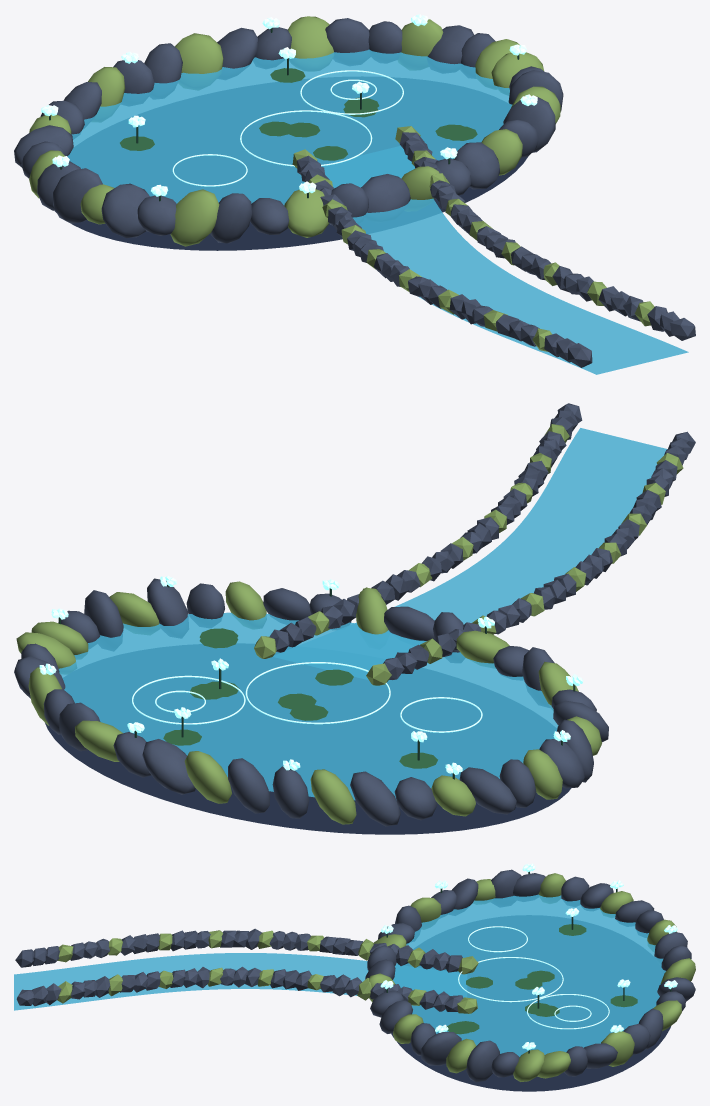
The model's file is enchanted-pond.glb.
The picture shows the model from 3 angles, top to bottom: view 1: azimuth 30°, elevation 25°; view 2: azimuth 150°, elevation 25°; view 3: azimuth 270°, elevation 25°; orthographic projection. The views are drawn at different scales.
Visible parts, largest first — view 1: EnchantedPond_water, EnchantedPond_stone, EnchantedPond_moss, EnchantedPond_dark, EnchantedPond_leaf, EnchantedPond_glow, PondRipple_3_foam; view 2: EnchantedPond_water, EnchantedPond_stone, EnchantedPond_moss, EnchantedPond_dark, EnchantedPond_leaf, EnchantedPond_glow, PondRipple_3_foam; view 3: EnchantedPond_water, EnchantedPond_stone, EnchantedPond_moss, EnchantedPond_dark, EnchantedPond_leaf, EnchantedPond_glow, PondRipple_3_foam.
Boxes of the visible parts, x1,y1,x2,y2 form: EnchantedPond_water: [67, 49, 688, 374]; EnchantedPond_stone: [14, 18, 695, 367]; EnchantedPond_moss: [29, 16, 654, 351]; EnchantedPond_dark: [55, 157, 527, 250]; EnchantedPond_leaf: [120, 68, 477, 160]; EnchantedPond_glow: [41, 14, 537, 196]; PondRipple_3_foam: [240, 110, 372, 166]; EnchantedPond_water: [58, 428, 667, 800]; EnchantedPond_stone: [14, 403, 695, 826]; EnchantedPond_moss: [16, 424, 683, 824]; EnchantedPond_dark: [45, 723, 571, 834]; EnchantedPond_leaf: [163, 628, 437, 768]; EnchantedPond_glow: [39, 575, 583, 774]; PondRipple_3_foam: [245, 662, 390, 724]; EnchantedPond_water: [14, 894, 665, 1056]; EnchantedPond_stone: [15, 869, 695, 1082]; EnchantedPond_moss: [57, 873, 695, 1081]; EnchantedPond_dark: [391, 1026, 670, 1091]; EnchantedPond_leaf: [446, 924, 637, 1034]; EnchantedPond_glow: [380, 863, 677, 1050]; PondRipple_3_foam: [458, 957, 563, 1002].
Size of the model in its own units: 4.87 by 0.5768 by 7.18.
Materials: 8 (1 with a texture image).
